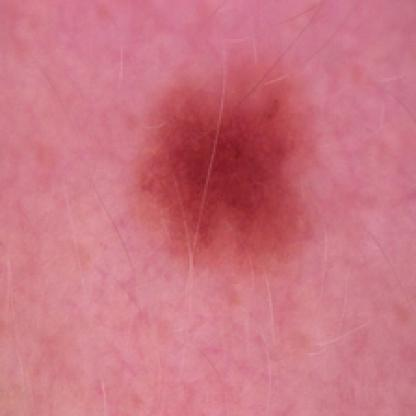benign: (130, 78, 334, 251)
